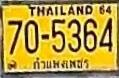0: (24, 19, 38, 53)
3: (67, 18, 81, 52)
4: (99, 17, 112, 51)
5: (51, 18, 65, 52)
6: (84, 18, 96, 51)
7: (7, 19, 22, 54)
KPT: (30, 55, 91, 70)
